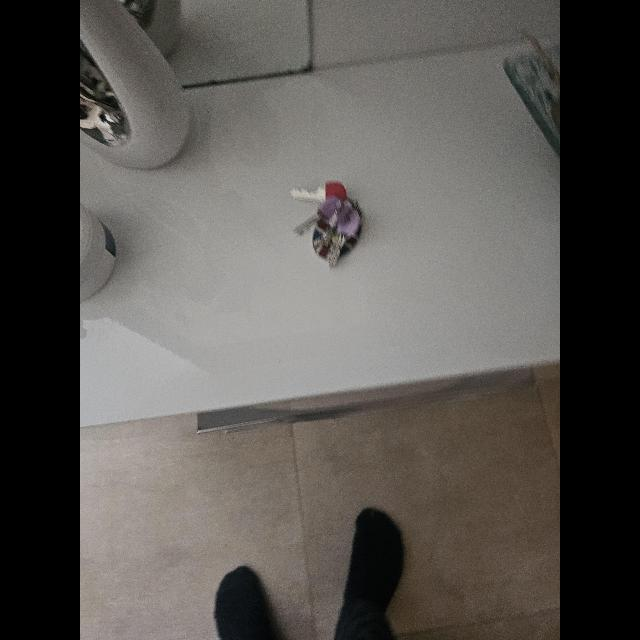Keys: (290, 182, 362, 270)
